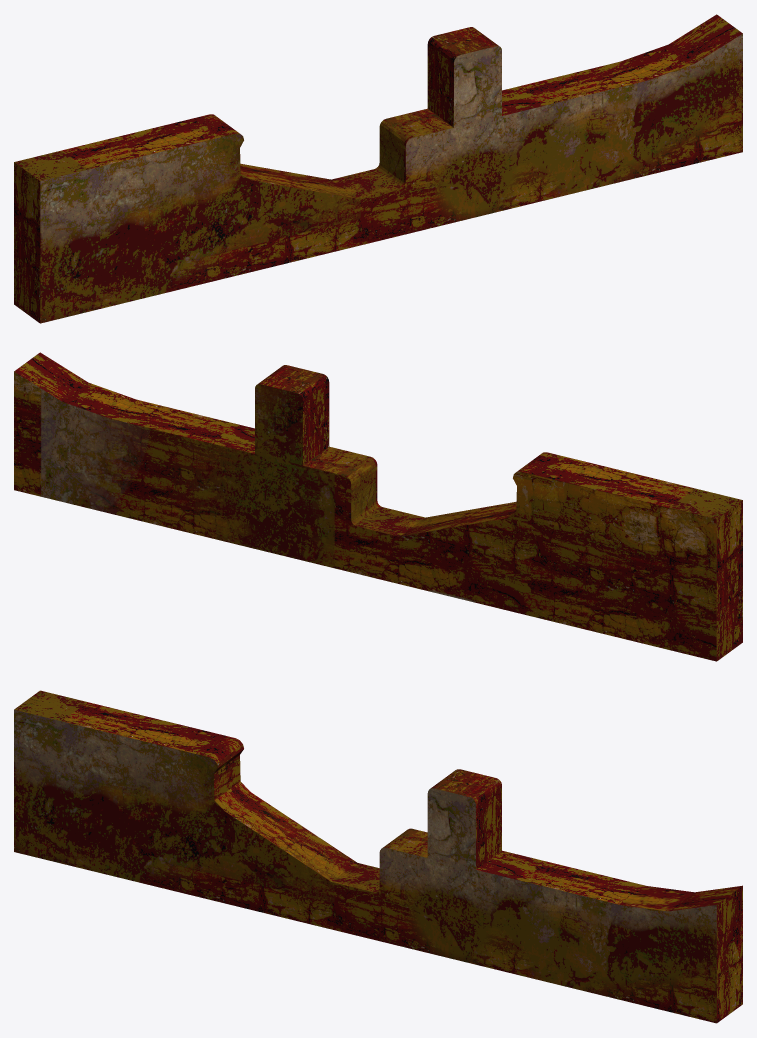
Rendered from ground-1.glb.
3 views of the same model, one above another, from view 1: azimuth 30°, elevation 25°; view 2: azimuth 150°, elevation 25°; view 3: azimuth 330°, elevation 25° (orthographic).
Parts seen in each view (by area): view 1: GROUNDMESH_Baked; view 2: GROUNDMESH_Baked; view 3: GROUNDMESH_Baked.
Part boxes in pixels (x1,y1,x2,y2): GROUNDMESH_Baked: (14, 14, 742, 323); GROUNDMESH_Baked: (14, 352, 742, 661); GROUNDMESH_Baked: (14, 690, 742, 1023).
Size of what is drawn, in the model's own units: 31 by 7 by 2.
Materials: 1 (1 with a texture image).
